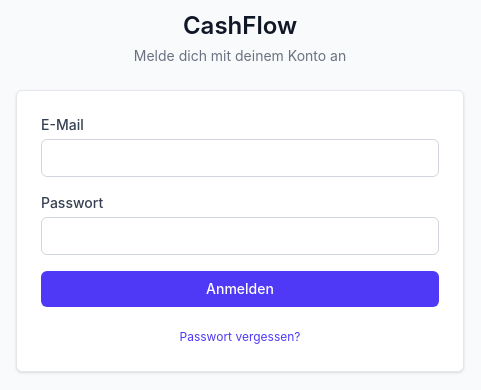
Test case: Login › shows loading state while submitting
Type "test@example.com" into the field labelled "E-Mail" at (240, 158), box x1=41 y1=139 x2=439 y2=177
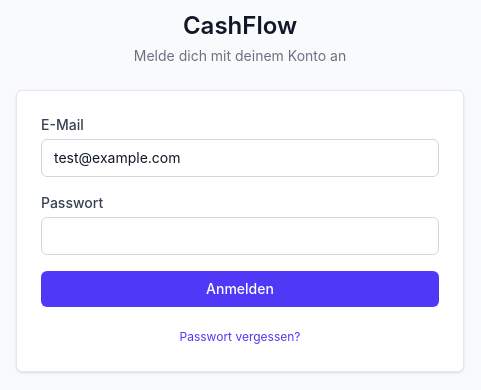
Type "password" into the password field labelled "Passwort" at (240, 236), box x1=41 y1=217 x2=439 y2=255
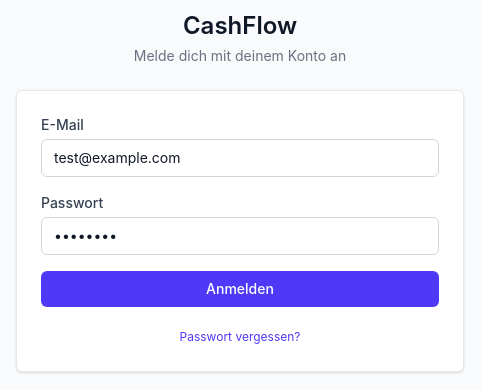
Click the button "Anmelden" at (240, 289), box x1=41 y1=271 x2=439 y2=307
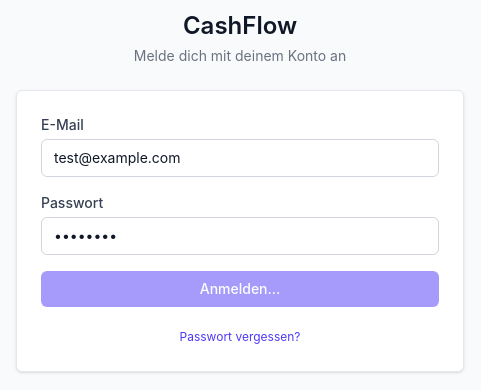
Expected: the button "Anmelden…" is disabled, x1=41 y1=271 x2=439 y2=307
